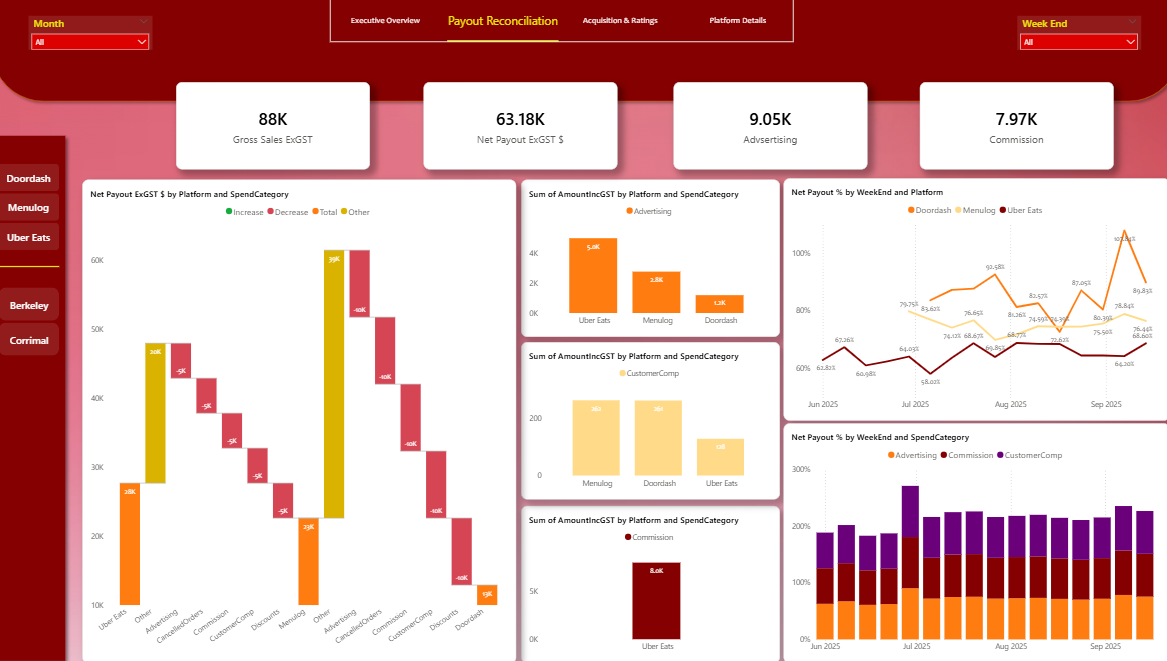

The page's visual inventory and layout, read from the dashboard file:
{"tool":"powerbi","page":{"name":"Payout Reconciliation","canvas":[1920,1080],"ordinal":1},"visuals":[{"type":"shape","box":[0,0,1920,184],"z":0},{"type":"shape","box":[0,219.9,136.9,860.1],"z":1000},{"type":"pageNavigator","box":[550,10,742,70],"z":3000},{"type":"card","fields":{"Values":["_Measures.Commission"]},"box":[1494,144,310,140],"z":4000},{"type":"card","fields":{"Values":["_Measures.Advsertising"]},"box":[1100,144,310,140],"z":5000},{"type":"card","fields":{"Values":["_Measures.Gross Sales"]},"box":[304,144,310,140],"z":6000},{"type":"slicer","fields":{"Values":["DimWeek.WeekEnd"]},"box":[1650,38,198,54],"z":7000},{"type":"slicer","fields":{"Values":["DimWeek.MonthName"]},"box":[68,38,198,54],"z":8000},{"type":"columnChart","fields":{"Series":["Fact_Expenses.SpendCategory"],"Y":["Sum(Fact_Expenses.AmountIncGST)"],"Category":["DimPlatform.Platform"]},"box":[856,300,414,252],"z":9000},{"type":"columnChart","fields":{"Series":["Fact_Expenses.SpendCategory"],"Y":["Sum(Fact_Expenses.AmountIncGST)"],"Category":["DimPlatform.Platform"]},"box":[856,822,414,252],"z":10000},{"type":"card","fields":{"Values":["_Measures.Net Payout ExGST $"]},"box":[700,144,310,140],"z":11000},{"type":"columnChart","fields":{"Series":["Fact_Expenses.SpendCategory"],"Y":["Sum(Fact_Expenses.AmountIncGST)"],"Category":["DimPlatform.Platform"]},"box":[856,560,414,252],"z":13000},{"type":"waterfallChart","fields":{"Category":["DimPlatform.Platform"],"Breakdown":["Fact_Expenses.SpendCategory"],"Y":["_Measures.Net Payout ExGST $"]},"box":[154,300,694,774],"z":14000},{"type":"advancedSlicerVisual","fields":{"Values":["DimStore.StoreName"]},"box":[16.3,468.7,106.8,119.4],"z":15000},{"type":"advancedSlicerVisual","fields":{"Values":["DimPlatform.Platform"]},"box":[14.5,269.6,108.6,148.4],"z":16000},{"type":"shape","box":[18.1,432.5,99.5,14.5],"z":17000},{"type":"lineChart","fields":{"Category":["DimWeek.WeekEnd"],"Y":["_Measures.Net Payout %"],"Series":["DimPlatform.Platform"]},"box":[1276,298,618,388],"z":17001},{"type":"lineStackedColumnComboChart","fields":{"Category":["DimWeek.WeekEnd"],"Y":["_Measures.Net Payout %"],"Series":["Dim_SpendCategory.SpendCategory"]},"box":[1276,690,618,384],"z":17002}]}

Visuals, with their boxes in screenshot pixels (x1, y1, x2, y2), scaled from the page's 1920x1080 canvas onto the 1167x661 screenshot:
shape: locate(0, 0, 1166, 113)
shape: locate(0, 135, 83, 660)
pageNavigator: locate(334, 6, 785, 49)
card - _Measures.Commission: locate(908, 88, 1096, 174)
card - _Measures.Advsertising: locate(669, 88, 857, 174)
card - _Measures.Gross Sales: locate(185, 88, 373, 174)
slicer - DimWeek.WeekEnd: locate(1003, 23, 1123, 56)
slicer - DimWeek.MonthName: locate(41, 23, 162, 56)
columnChart - Fact_Expenses.SpendCategory x Sum(Fact_Expenses.AmountIncGST): locate(520, 184, 772, 338)
columnChart - Fact_Expenses.SpendCategory x Sum(Fact_Expenses.AmountIncGST): locate(520, 503, 772, 657)
card - _Measures.Net Payout ExGST $: locate(425, 88, 614, 174)
columnChart - Fact_Expenses.SpendCategory x Sum(Fact_Expenses.AmountIncGST): locate(520, 343, 772, 497)
waterfallChart - DimPlatform.Platform x Fact_Expenses.SpendCategory: locate(94, 184, 515, 657)
advancedSlicerVisual - DimStore.StoreName: locate(10, 287, 75, 360)
advancedSlicerVisual - DimPlatform.Platform: locate(9, 165, 75, 256)
shape: locate(11, 265, 71, 274)
lineChart - DimWeek.WeekEnd x _Measures.Net Payout %: locate(776, 182, 1151, 420)
lineStackedColumnComboChart - DimWeek.WeekEnd x _Measures.Net Payout %: locate(776, 422, 1151, 657)
